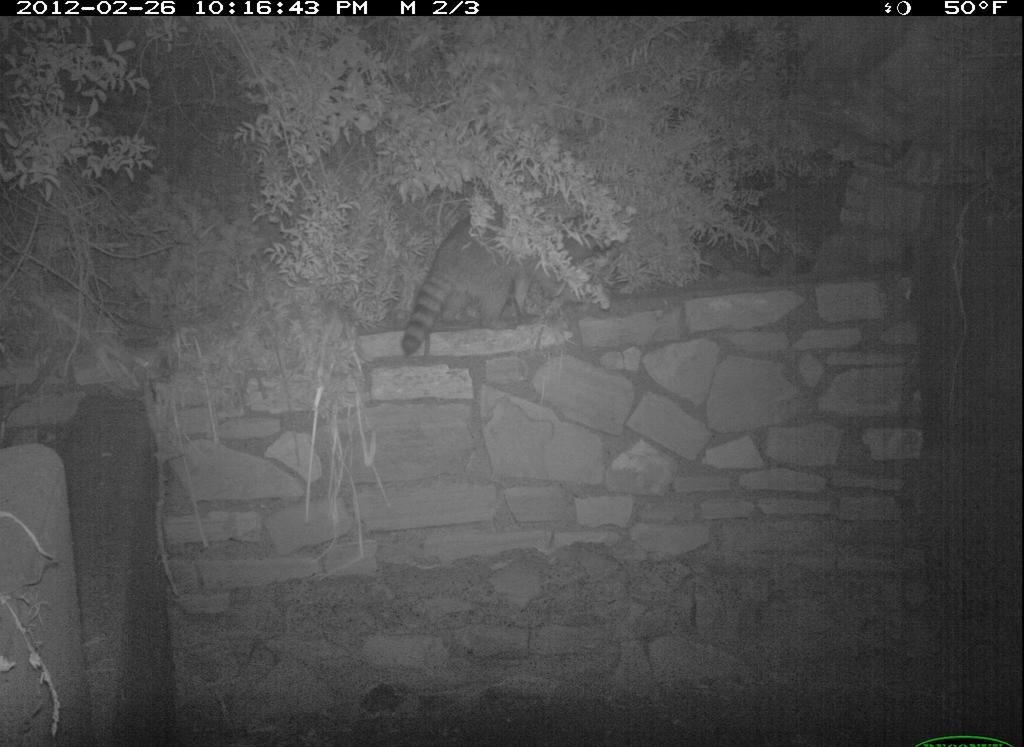raccoon: (393, 194, 614, 373)
